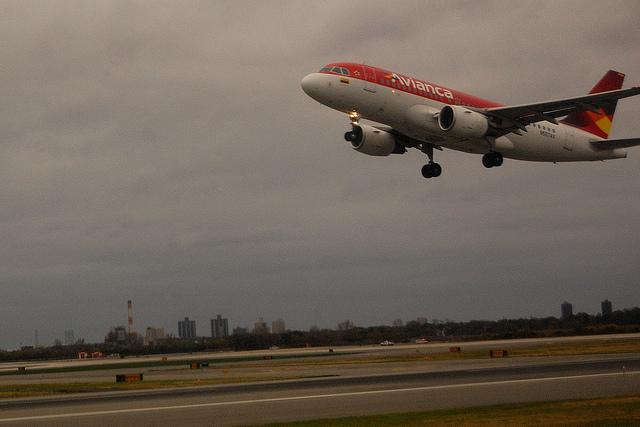airplane: (299, 60, 640, 179)
